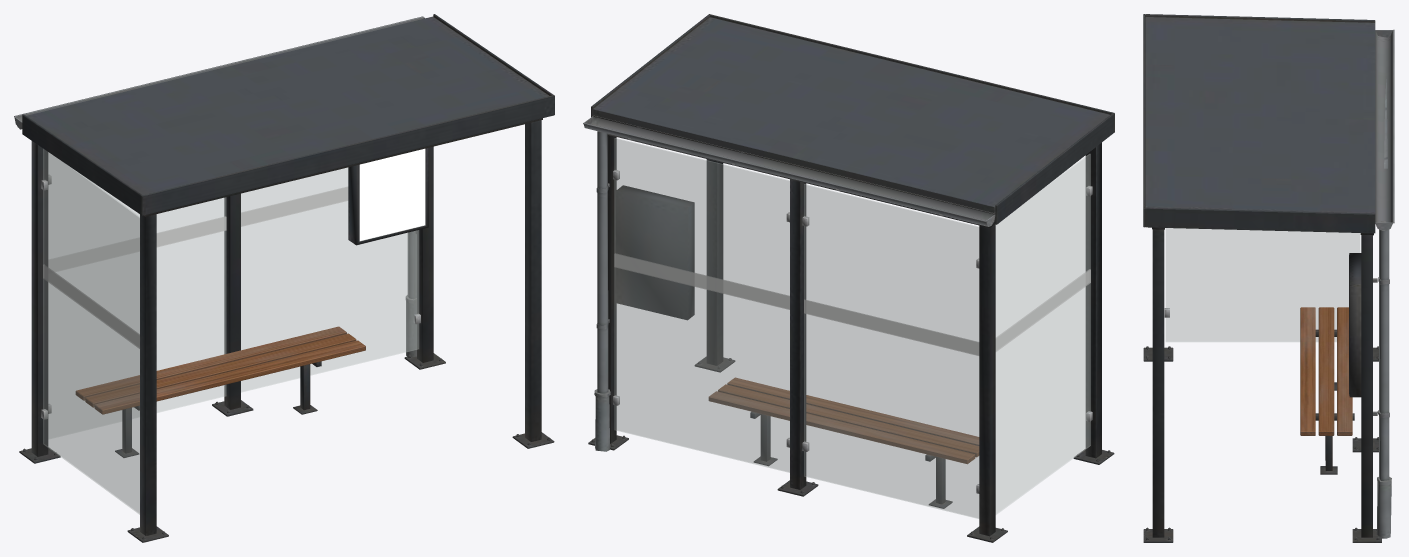
Rendered from bus-stop-shelter.glb.
3 views of the same model, side by side, from view 1: azimuth 30°, elevation 25°; view 2: azimuth 150°, elevation 25°; view 3: azimuth 270°, elevation 25° (orthographic). The views are drawn at different scales.
Visible parts, largest first — view 1: bus-stop-shelter_body, bus-stop-shelter_back_0_glass, bus-stop-shelter_bench, bus-stop-shelter_info_light; view 2: bus-stop-shelter_back_0_glass, bus-stop-shelter_body, bus-stop-shelter_bench; view 3: bus-stop-shelter_body, bus-stop-shelter_back_0_glass, bus-stop-shelter_bench.
Part boxes in pixels (x1,y1,x2,y2): bus-stop-shelter_body: [14, 14, 554, 542]; bus-stop-shelter_back_0_glass: [43, 149, 418, 514]; bus-stop-shelter_bench: [75, 326, 365, 457]; bus-stop-shelter_info_light: [359, 148, 425, 240]; bus-stop-shelter_back_0_glass: [614, 138, 1090, 518]; bus-stop-shelter_body: [583, 14, 1114, 542]; bus-stop-shelter_bench: [708, 377, 979, 508]; bus-stop-shelter_body: [1143, 14, 1394, 542]; bus-stop-shelter_back_0_glass: [1166, 228, 1359, 341]; bus-stop-shelter_bench: [1300, 307, 1354, 474].
Bounding box in the file's own units: 3.13 × 2.52 × 1.71.
Materials: 5 (2 with a texture image).
